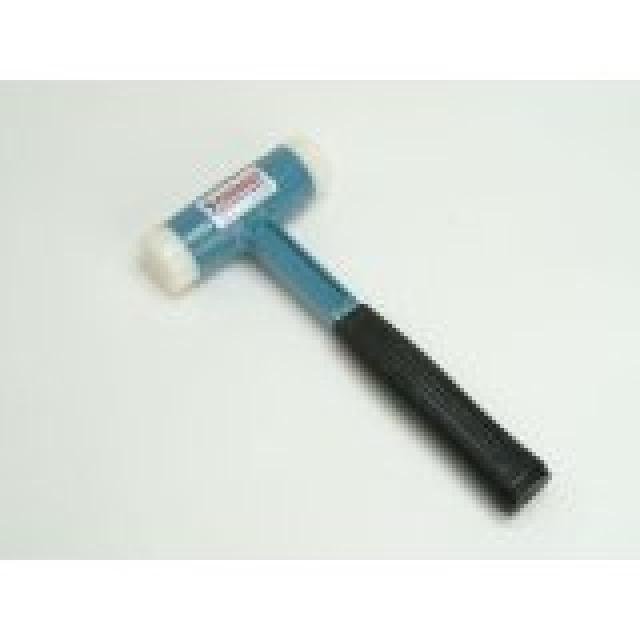hammer: (131, 137, 558, 531)
